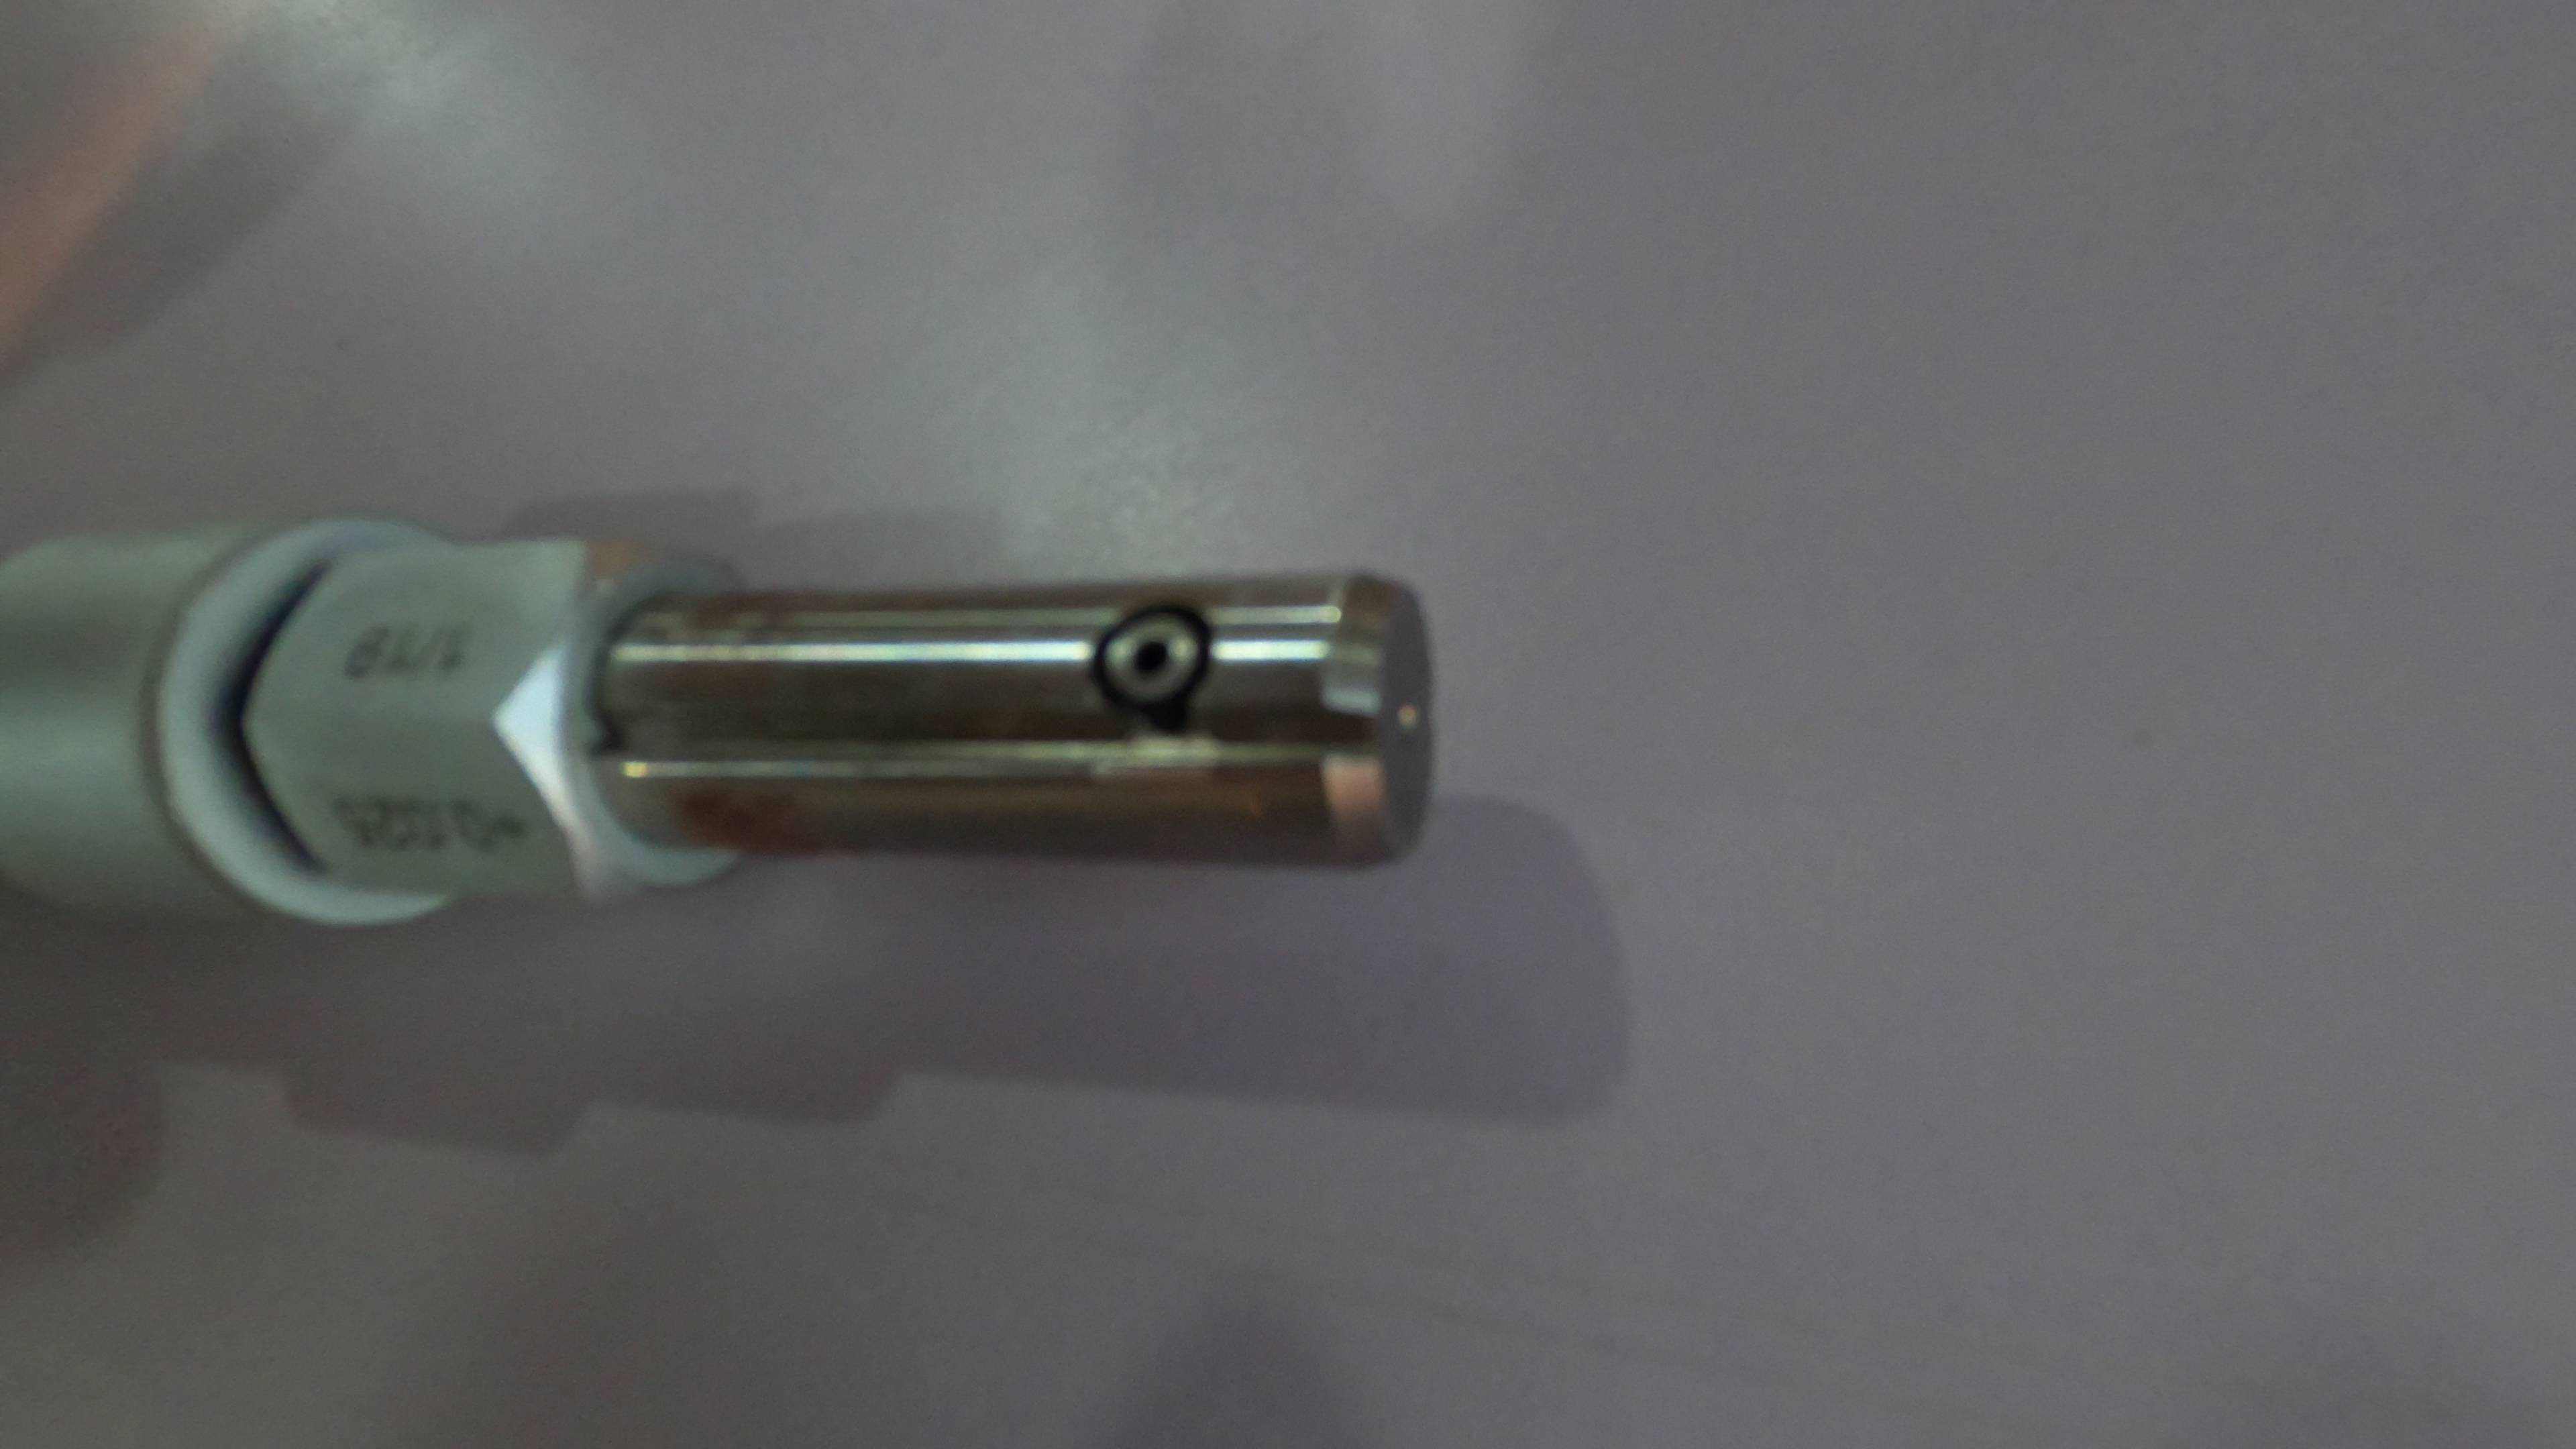air_gauge: (2, 501, 1442, 948)
